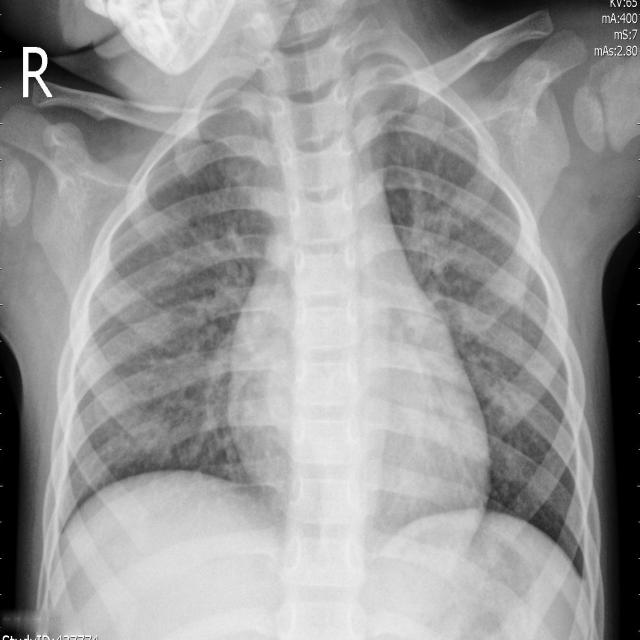low-pneumonia: (405, 164, 514, 350), (196, 87, 284, 259), (137, 310, 232, 450)
